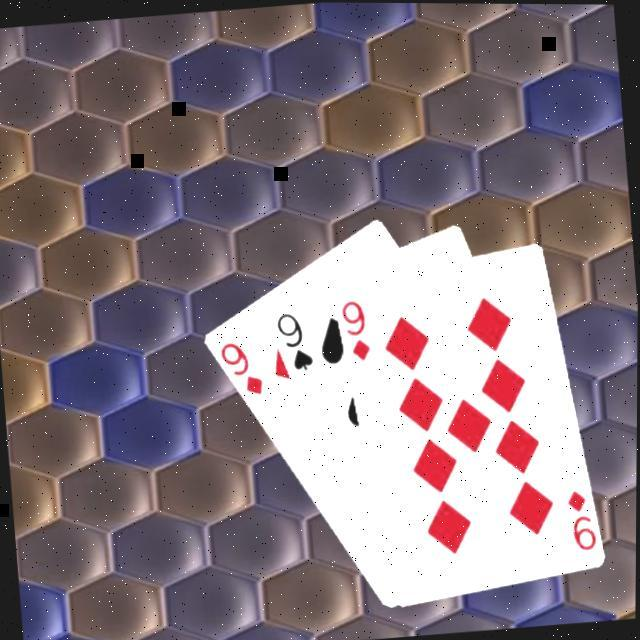9D: (216, 336, 268, 402), (338, 294, 376, 365), (563, 484, 599, 554)
9S: (272, 306, 318, 376)
